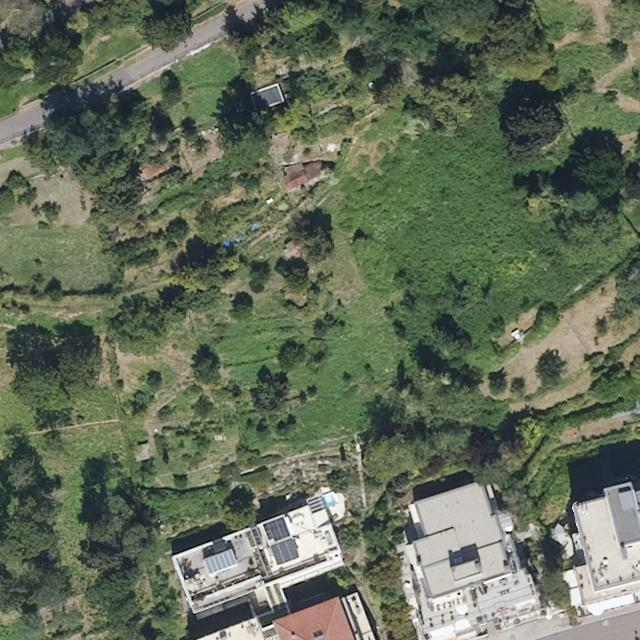PV: (270, 536, 303, 567), (262, 516, 292, 543)
